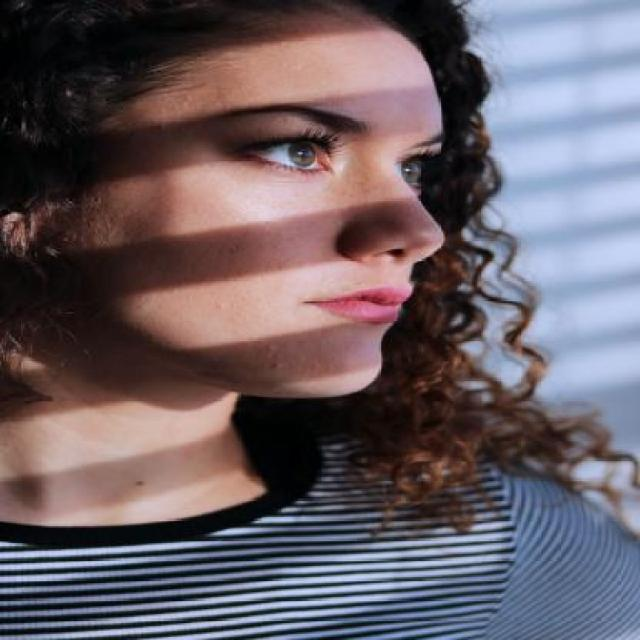closed-mouth: (292, 282, 430, 335)
